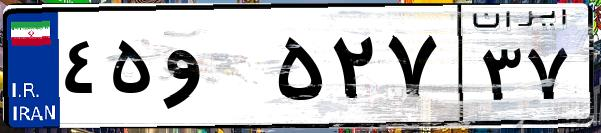2: (330, 28, 385, 110)
3: (475, 38, 525, 113)
4: (57, 26, 110, 100)
5: (270, 28, 330, 110), (110, 28, 158, 98)
7: (385, 28, 445, 110), (525, 38, 570, 115)
و: (158, 20, 270, 120)
